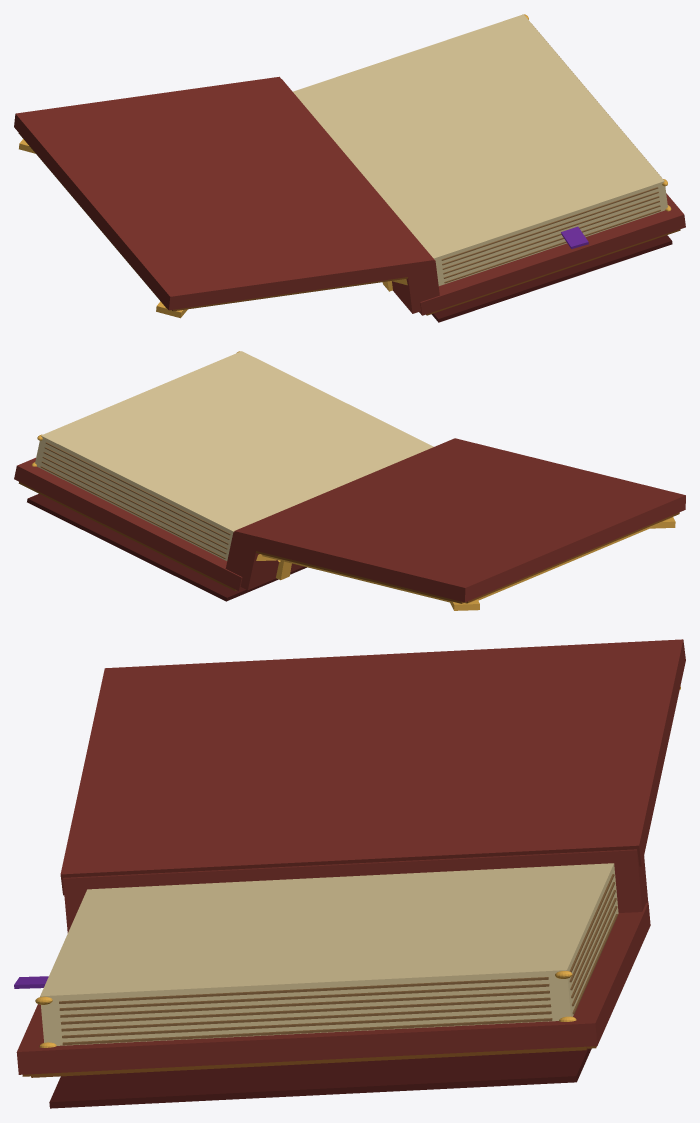
Rendered from book-return-v2-fixed-reference.glb.
The picture shows the model from 3 angles, top to bottom: view 1: azimuth 30°, elevation 25°; view 2: azimuth 150°, elevation 25°; view 3: azimuth 270°, elevation 25°; orthographic projection. The views are drawn at different scales.
Visible parts, largest first — view 1: YuumiBook_FrontCover, YuumiBook_PageBlock, YuumiBook_BackCover, YuumiBook_BackInset, YuumiBook_Spine, YuumiBook_BackGildedLip_Bottom, YuumiBook_FrontGildedLip_Bottom, YuumiBook_BottomPageLayer_3, YuumiBook_BottomPageLayer_4, YuumiBook_BottomPageLayer_5; view 2: YuumiBook_PageBlock, YuumiBook_FrontCover, YuumiBook_BackCover, YuumiBook_BackInset, YuumiBook_Spine, YuumiBook_FrontGildedLip_Top, YuumiBook_BackGildedLip_Top, YuumiBook_GoldFrame_0_Right, YuumiBook_FrontGildedLip_ForeEdge, YuumiBook_TopPageLayer_3, YuumiBook_TopPageLayer_5, YuumiBook_TopPageLayer_1 (+4 smaller); view 3: YuumiBook_FrontCover, YuumiBook_PageBlock, YuumiBook_BackCover, YuumiBook_BackInset, YuumiBook_Spine, YuumiBook_BackGildedLip_ForeEdge, YuumiBook_ForeEdgeLayer_0, YuumiBook_ForeEdgeLayer_1, YuumiBook_ForeEdgeLayer_2, YuumiBook_ForeEdgeLayer_3, YuumiBook_ForeEdgeLayer_4, YuumiBook_ForeEdgeLayer_5 (+1 smaller).
Boxes of the visible parts, bbox=[...] form: YuumiBook_FrontCover: bbox=[14, 76, 434, 310]; YuumiBook_PageBlock: bbox=[293, 14, 667, 285]; YuumiBook_BackCover: bbox=[419, 193, 685, 315]; YuumiBook_BackInset: bbox=[431, 235, 672, 322]; YuumiBook_Spine: bbox=[282, 79, 439, 313]; YuumiBook_BackGildedLip_Bottom: bbox=[426, 229, 680, 315]; YuumiBook_FrontGildedLip_Bottom: bbox=[172, 277, 407, 311]; YuumiBook_BottomPageLayer_3: bbox=[442, 196, 659, 269]; YuumiBook_BottomPageLayer_4: bbox=[442, 191, 658, 265]; YuumiBook_BottomPageLayer_5: bbox=[441, 187, 658, 260]; YuumiBook_PageBlock: bbox=[35, 351, 433, 560]; YuumiBook_FrontCover: bbox=[234, 438, 685, 602]; YuumiBook_BackCover: bbox=[14, 457, 244, 590]; YuumiBook_BackInset: bbox=[27, 494, 306, 601]; YuumiBook_Spine: bbox=[225, 532, 303, 590]; YuumiBook_FrontGildedLip_Top: bbox=[256, 551, 464, 603]; YuumiBook_BackGildedLip_Top: bbox=[18, 482, 236, 590]; YuumiBook_GoldFrame_0_Right: bbox=[464, 517, 671, 603]; YuumiBook_FrontGildedLip_ForeEdge: bbox=[466, 512, 679, 602]; YuumiBook_TopPageLayer_3: bbox=[43, 452, 228, 544]; YuumiBook_TopPageLayer_5: bbox=[45, 442, 230, 535]; YuumiBook_TopPageLayer_1: bbox=[41, 461, 226, 554]; YuumiBook_FrontCover: bbox=[60, 639, 685, 895]; YuumiBook_PageBlock: bbox=[40, 863, 618, 1045]; YuumiBook_BackCover: bbox=[16, 902, 650, 1074]; YuumiBook_BackInset: bbox=[49, 1048, 591, 1108]; YuumiBook_Spine: bbox=[63, 849, 648, 932]; YuumiBook_BackGildedLip_ForeEdge: bbox=[31, 1046, 587, 1077]; YuumiBook_ForeEdgeLayer_0: bbox=[62, 1018, 552, 1045]; YuumiBook_ForeEdgeLayer_1: bbox=[62, 1011, 551, 1038]; YuumiBook_ForeEdgeLayer_2: bbox=[61, 1004, 551, 1031]; YuumiBook_ForeEdgeLayer_3: bbox=[61, 997, 550, 1024]; YuumiBook_ForeEdgeLayer_4: bbox=[60, 990, 549, 1017]; YuumiBook_ForeEdgeLayer_5: bbox=[59, 984, 549, 1010].
Bounding box in the file's own units: 7.76 × 1.94 × 5.65.
